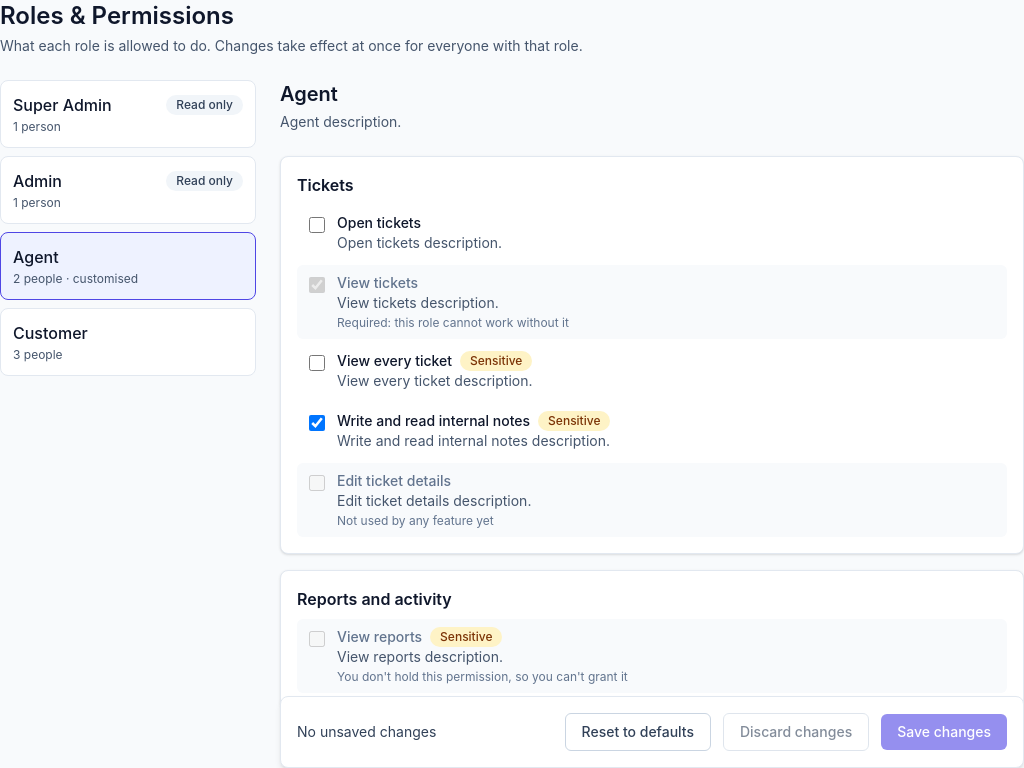
Test case: RolesPage › shows the server's reasons and keeps the draft when a change is refused (422)
Check: the heading "Agent" is shown, box left=280, top=82, right=338, bottom=106
Click the checkbox labelled "View every ticket Sensitive View every ticket description." at (317,363), box left=309, top=355, right=325, bottom=371
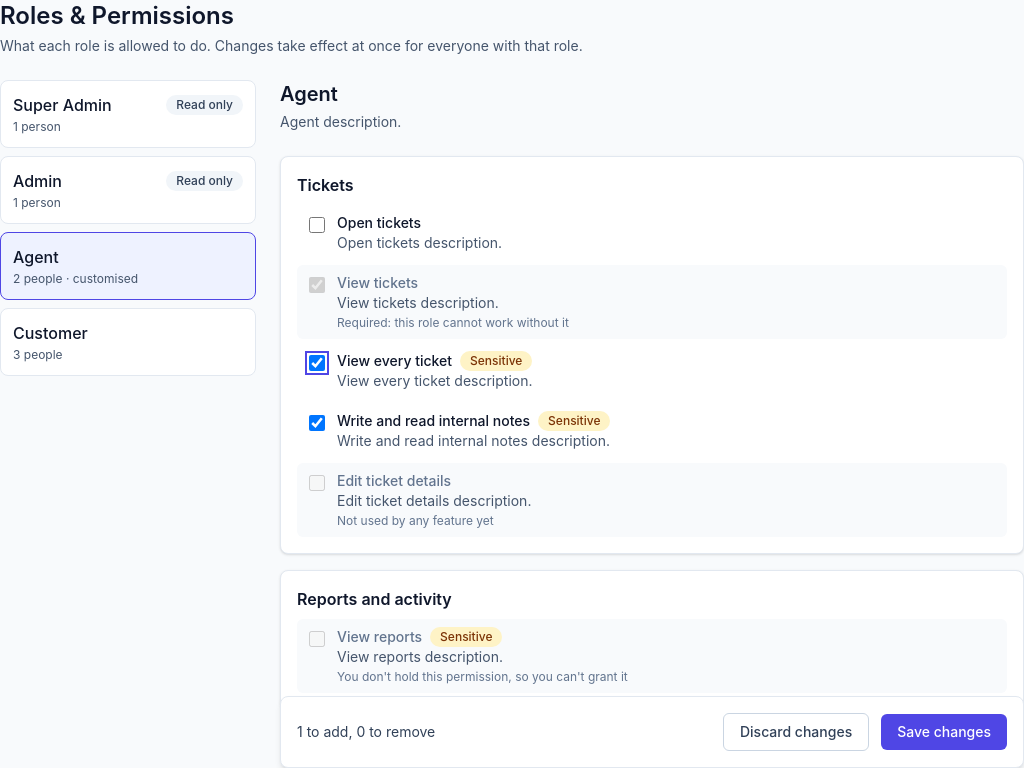
Click the button "Save changes" at (944,732), box left=881, top=714, right=1007, bottom=750
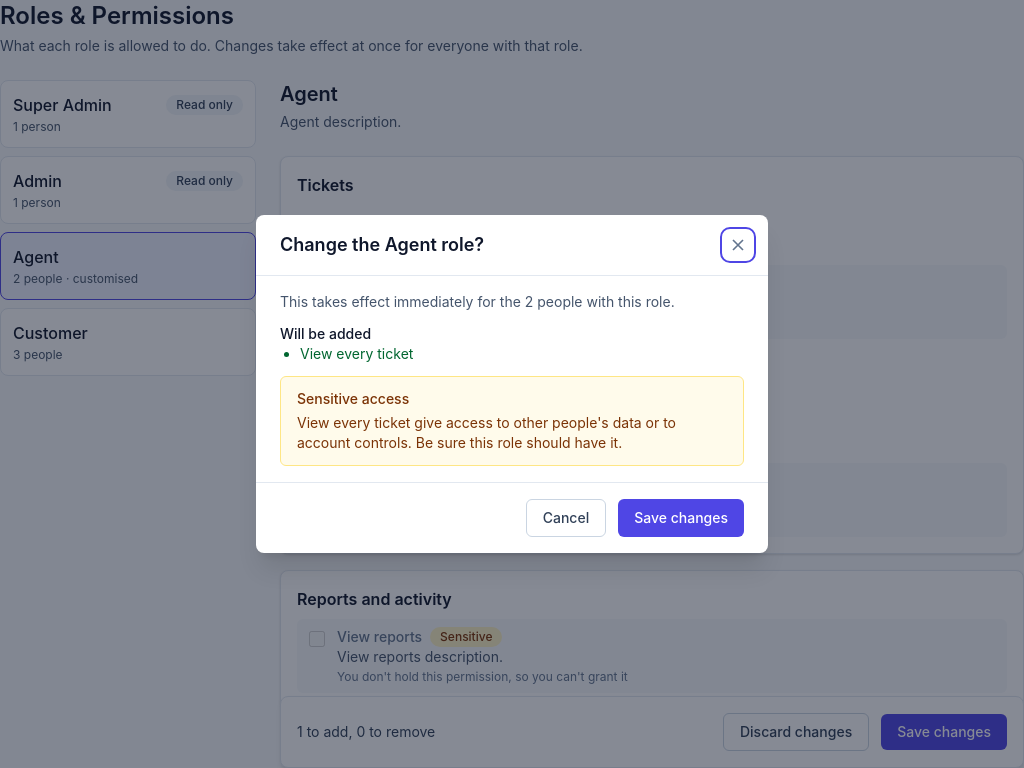
Click the button "Save changes" at (681,518), box left=618, top=499, right=744, bottom=537
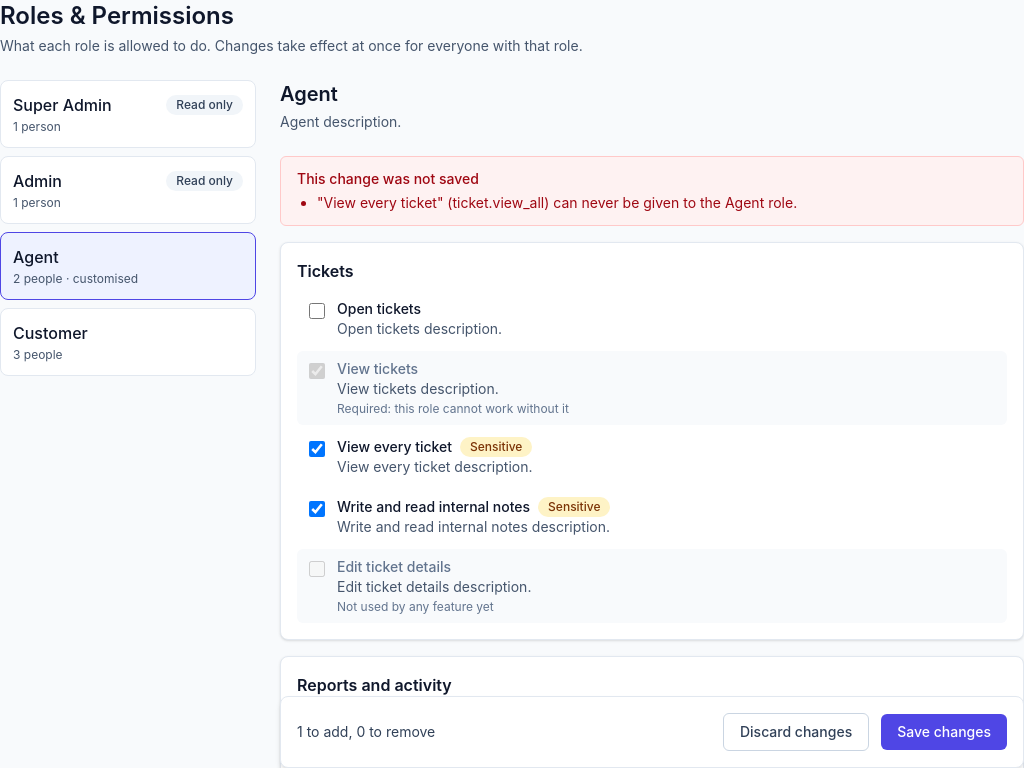
Check: the text "This change was not saved" is shown, box left=297, top=170, right=479, bottom=187
Check: the list item "can never be given to the Agent role" is shown, box left=317, top=194, right=797, bottom=211
Check: the dialog is gone
